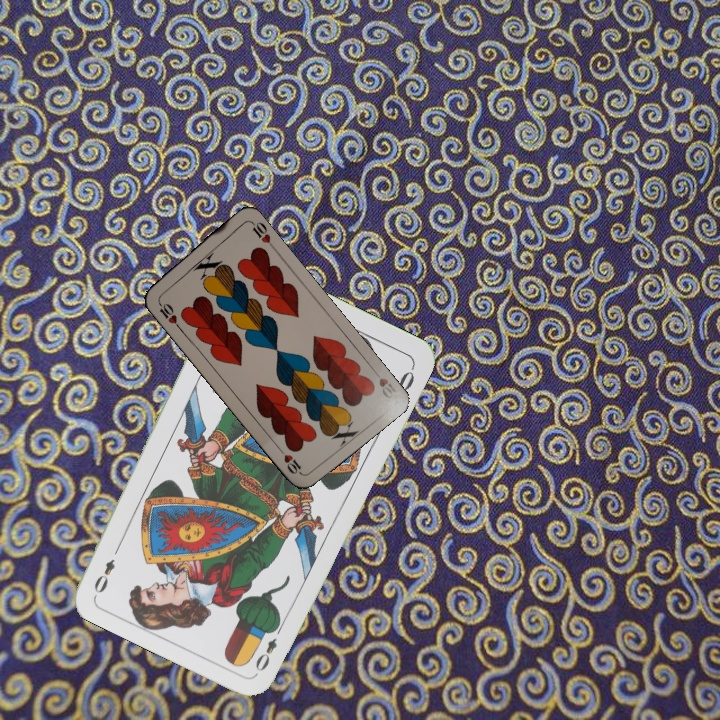EO: (251, 619, 286, 674)
H10: (368, 364, 401, 401), (153, 296, 183, 331)
